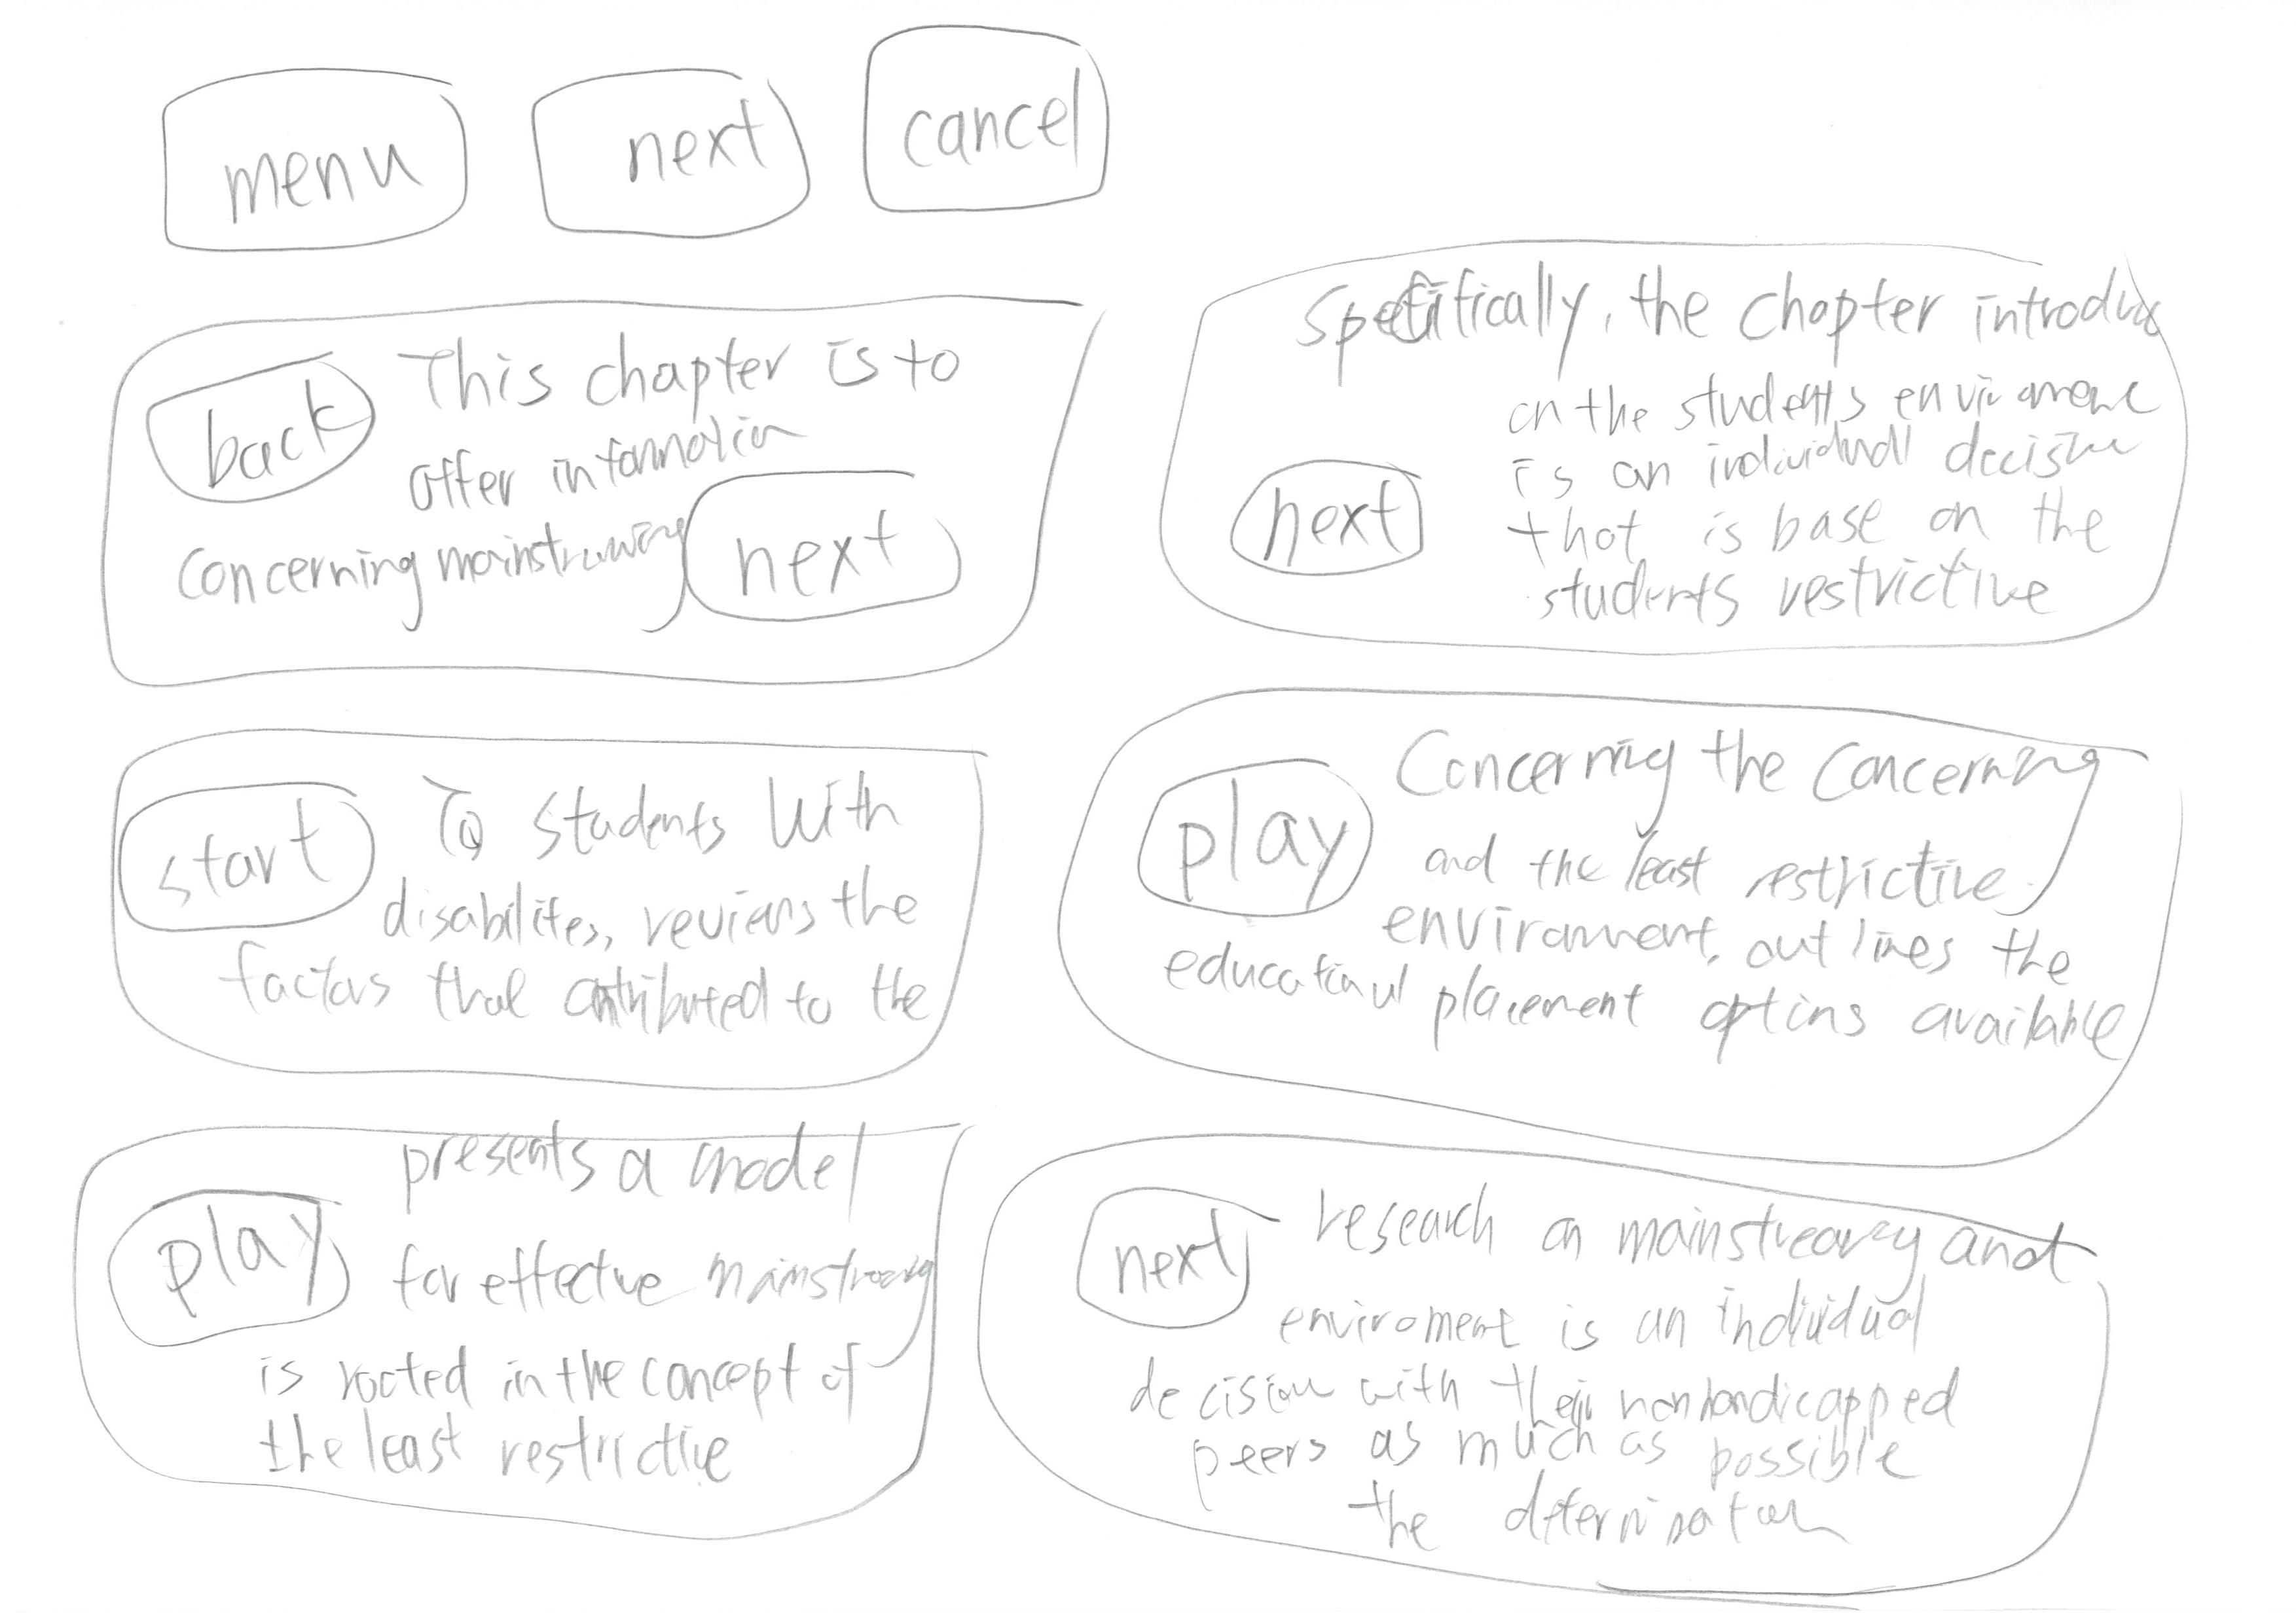back: (130, 339, 387, 522)
cancel: (853, 11, 1153, 236)
double: (955, 1113, 2296, 1624), (1041, 668, 2294, 1190), (0, 1076, 995, 1587), (67, 269, 1139, 705), (1155, 239, 2227, 675), (0, 692, 1034, 1127)
menu: (116, 49, 498, 267)
next: (513, 44, 835, 262), (650, 462, 1009, 645), (1067, 1156, 1297, 1343), (1211, 432, 1443, 601)
play: (60, 1160, 383, 1364), (1122, 735, 1392, 921)
row: (0, 668, 2296, 1195), (0, 1097, 2296, 1624), (0, 214, 2296, 701), (77, 9, 2261, 239)
small-title: (1319, 1172, 2076, 1283), (1380, 715, 2090, 828), (1276, 257, 2147, 346), (422, 742, 926, 875), (417, 1142, 860, 1209), (411, 344, 907, 380)
start: (84, 756, 389, 939)
text: (1493, 350, 2154, 619), (1273, 1290, 1971, 1540), (1132, 1339, 1978, 1536), (1424, 837, 2111, 1051), (408, 1216, 911, 1478), (1139, 928, 1988, 1042), (229, 1325, 833, 1464), (227, 903, 914, 1023), (422, 872, 928, 1014), (385, 429, 659, 615), (183, 522, 552, 626), (608, 395, 810, 464)
